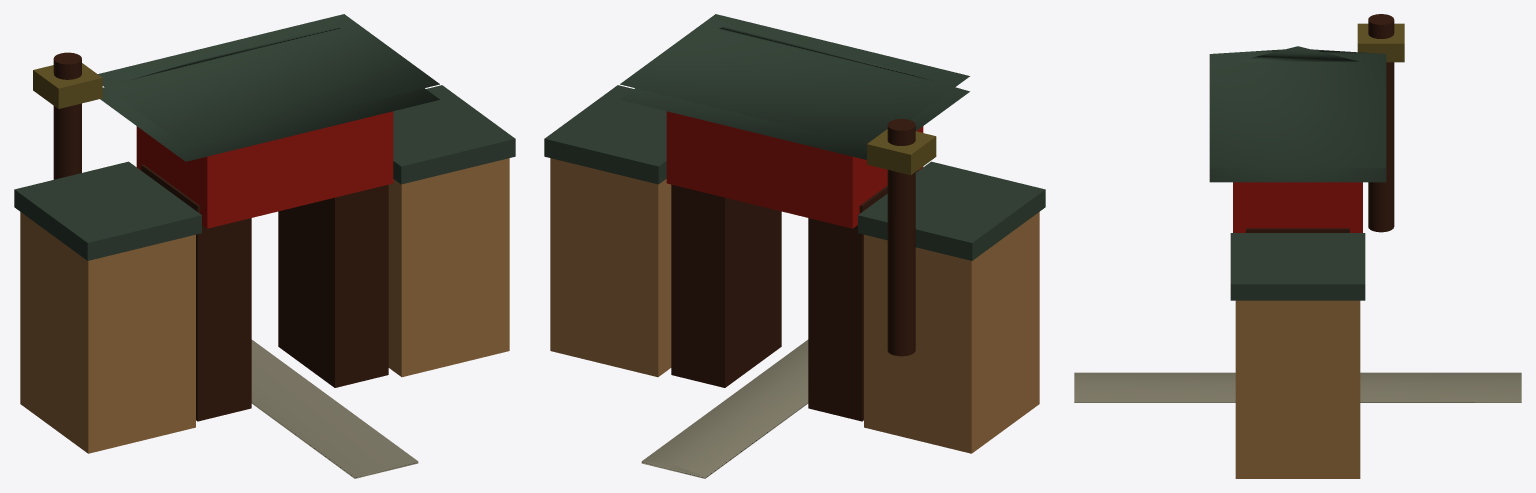
The model's file is Maomen.fbx.
3 renders of one model, left to right at view 1: azimuth 30°, elevation 25°; view 2: azimuth 150°, elevation 25°; view 3: azimuth 270°, elevation 25°, orthographic. The views are drawn at different scales.
Parts seen in each view (by area): view 1: east_wall, gate_roof, west_wall, west_pier, gate_house, east_wall_coping, east_pier, passage_road, west_wall_coping, gate_roof_2, guard_mast, guard_cap; view 2: east_wall, west_wall, gate_roof, west_pier, gate_house, east_pier, east_wall_coping, passage_road, west_wall_coping, guard_mast, gate_roof_2, guard_cap; view 3: west_wall, gate_roof, passage_road, west_wall_coping, gate_house, gate_roof_2, guard_mast, guard_cap, west_pier.
Boxes of the visible parts, x1=… form: east_wall: x1=20, y1=212, x2=195, y2=453; gate_roof: x1=98, y1=14, x2=439, y2=146; west_wall: x1=388, y1=158, x2=509, y2=377; west_pier: x1=278, y1=184, x2=388, y2=387; gate_house: x1=136, y1=111, x2=393, y2=228; east_wall_coping: x1=14, y1=161, x2=201, y2=260; east_pier: x1=141, y1=164, x2=251, y2=421; passage_road: x1=251, y1=339, x2=418, y2=478; west_wall_coping: x1=393, y1=85, x2=515, y2=184; gate_roof_2: x1=100, y1=27, x2=439, y2=161; guard_mast: x1=53, y1=52, x2=81, y2=179; guard_cap: x1=33, y1=63, x2=102, y2=108; east_wall: x1=864, y1=212, x2=1039, y2=453; west_wall: x1=550, y1=158, x2=671, y2=377; gate_roof: x1=620, y1=14, x2=969, y2=144; west_pier: x1=671, y1=184, x2=781, y2=387; gate_house: x1=666, y1=111, x2=923, y2=228; east_pier: x1=808, y1=170, x2=918, y2=421; east_wall_coping: x1=858, y1=161, x2=1045, y2=260; passage_road: x1=641, y1=339, x2=808, y2=478; west_wall_coping: x1=544, y1=85, x2=666, y2=184; guard_mast: x1=887, y1=119, x2=915, y2=356; gate_roof_2: x1=620, y1=27, x2=969, y2=159; guard_cap: x1=867, y1=129, x2=936, y2=175; west_wall: x1=1235, y1=300, x2=1360, y2=478; gate_roof: x1=1209, y1=48, x2=1386, y2=168; passage_road: x1=1074, y1=372, x2=1521, y2=402; west_wall_coping: x1=1230, y1=233, x2=1365, y2=300; gate_house: x1=1233, y1=182, x2=1362, y2=232; gate_roof_2: x1=1209, y1=46, x2=1386, y2=182; guard_mast: x1=1368, y1=14, x2=1394, y2=232; guard_cap: x1=1357, y1=23, x2=1404, y2=62; west_pier: x1=1246, y1=228, x2=1349, y2=232.
Size of the model in its own units: 87.32 by 68 by 86.
